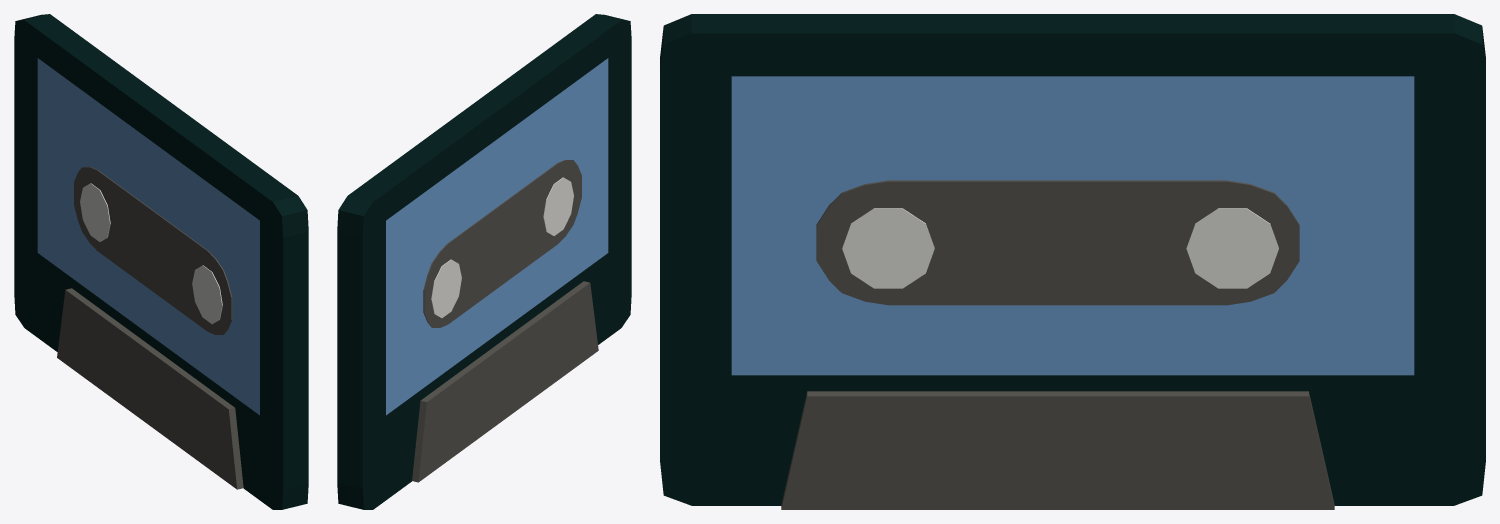
File: cassette-blue.fbx
3 views of the same model, side by side, from view 1: azimuth 30°, elevation 25°; view 2: azimuth 150°, elevation 25°; view 3: azimuth 270°, elevation 25° (orthographic). The views are drawn at different scales.
Visible parts, largest first — view 1: cassette.001; view 2: cassette.001; view 3: cassette.001.
Part boxes in pixels (x1,y1,x2,y2): cassette.001: (14, 14, 308, 509); cassette.001: (337, 14, 631, 509); cassette.001: (660, 14, 1485, 509).
Bounding box in the file's own units: 74.85 × 571 × 905.
